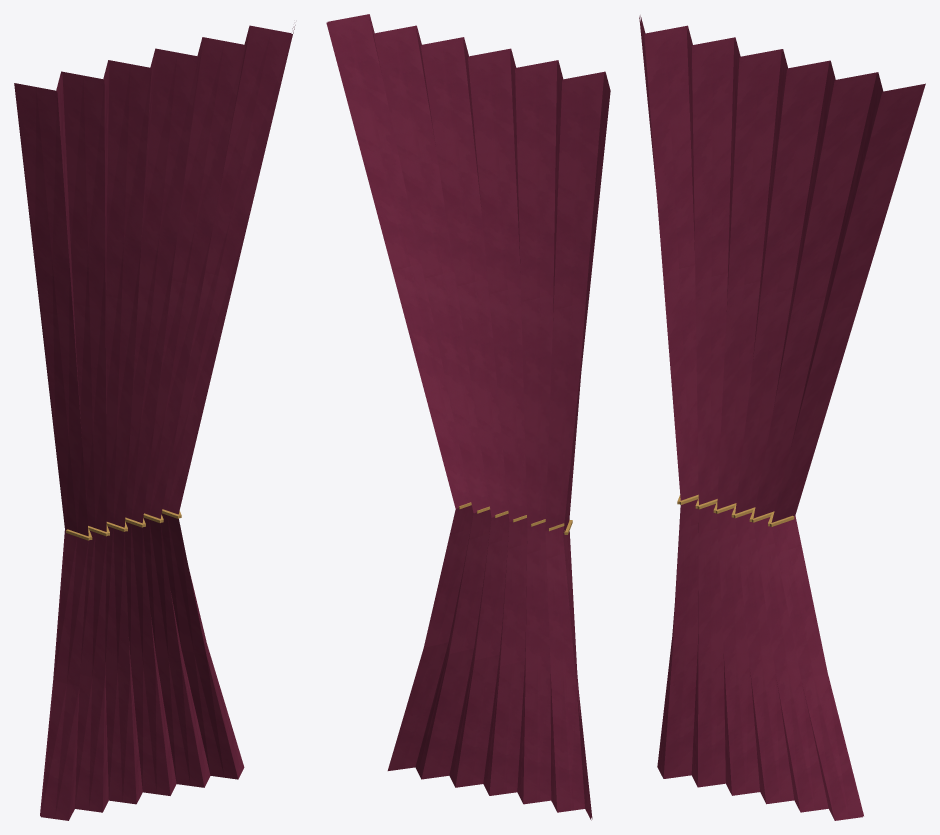
The model's file is SM_Theater_Curtain_MainR.fbx.
The picture shows the model from 3 angles, left to right: view 1: azimuth 30°, elevation 25°; view 2: azimuth 150°, elevation 25°; view 3: azimuth 330°, elevation 25°; orthographic projection.
Visible parts, largest first — view 1: SM_Theater_Curtain_MainR_LOD0; view 2: SM_Theater_Curtain_MainR_LOD0; view 3: SM_Theater_Curtain_MainR_LOD0.
Part boxes in pixels (x1,y1,x2,y2): SM_Theater_Curtain_MainR_LOD0: [14, 25, 295, 820]; SM_Theater_Curtain_MainR_LOD0: [326, 14, 610, 820]; SM_Theater_Curtain_MainR_LOD0: [639, 15, 925, 820].
Size of what is drawn, in the model's own units: 4.7 by 11.7 by 0.5684.
